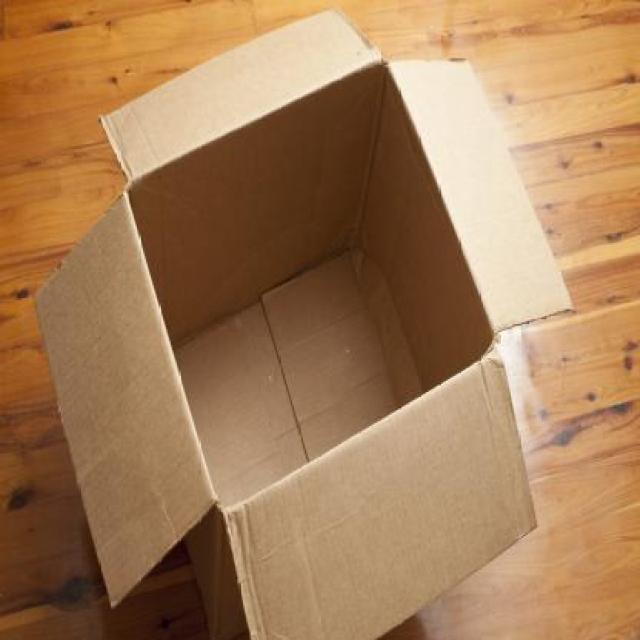box: (30, 9, 584, 640)
